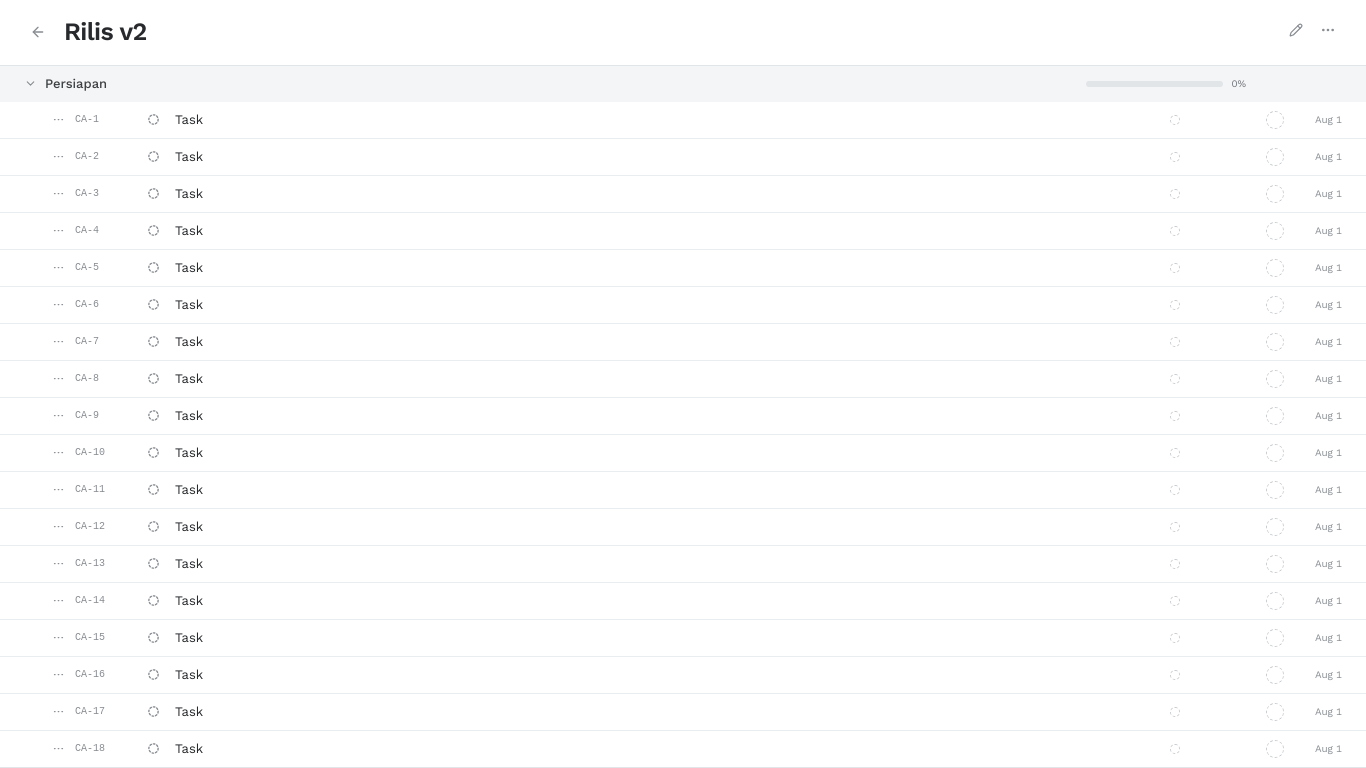
Test: TrackerProjectPage project and phase management › states the released task count in the delete confirmation
The image size is (1366, 768).
Check: the heading "Rilis v2" is shown, box [64,17,147,46]
Click the button named "project menu" at x=1328, y=30, box [1314,16,1342,44]
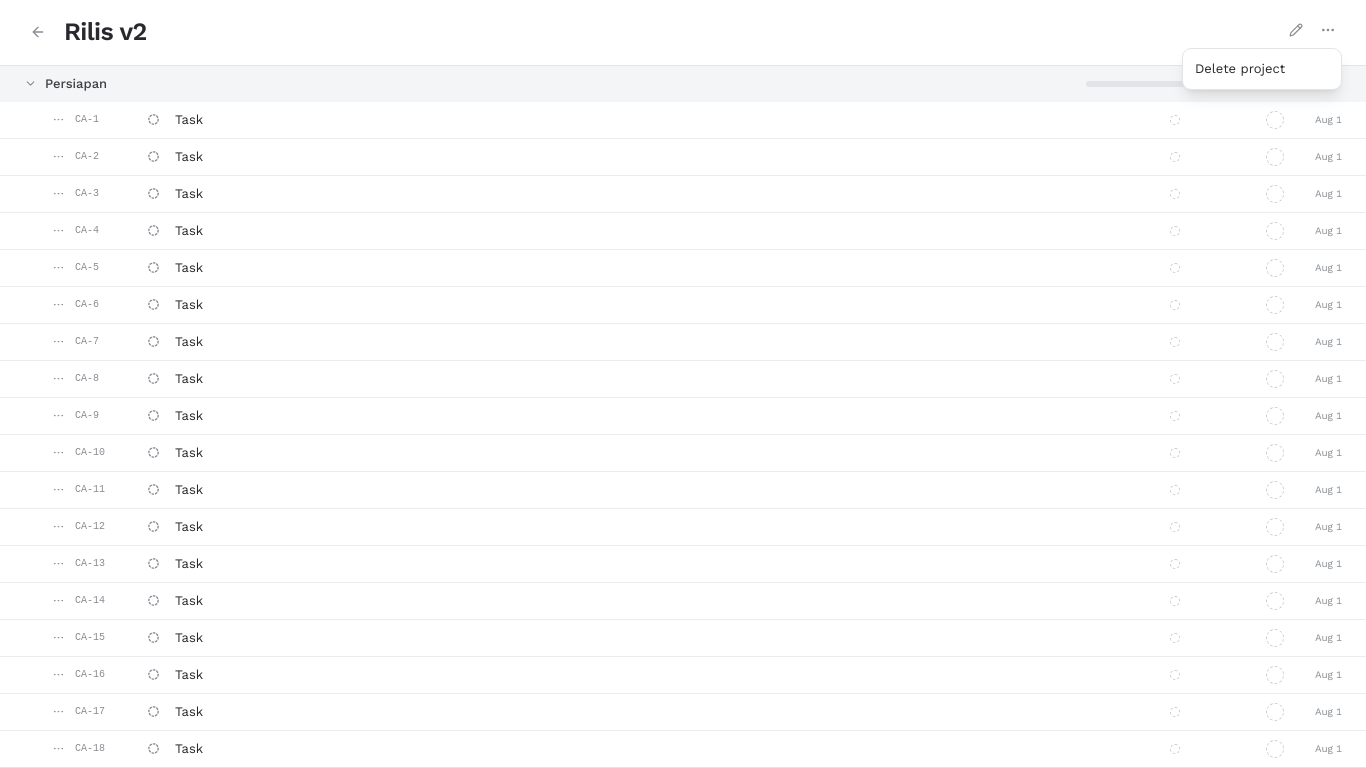
Click the menu item "Delete project" at x=1262, y=69, box [1183,53,1341,84]
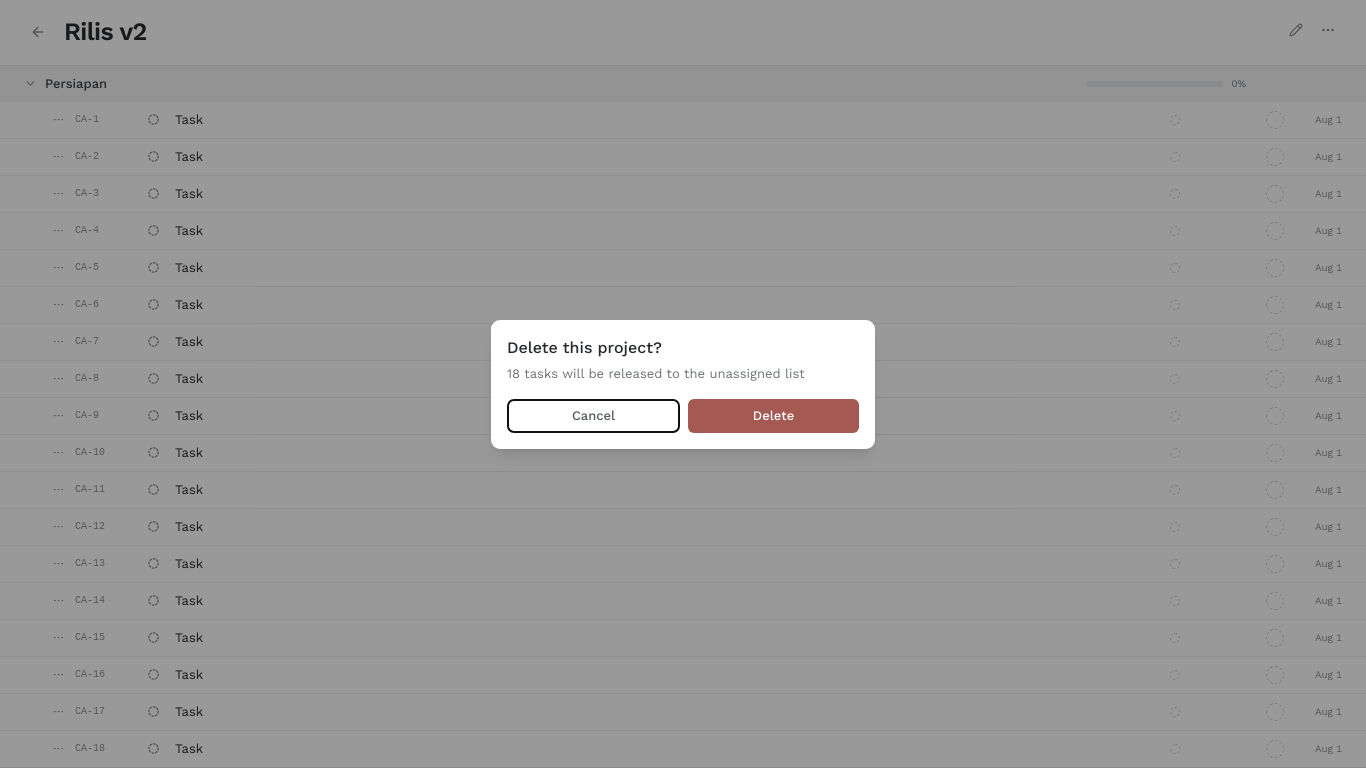
Check: the text "18 tasks will be released to the unassigned list" is shown, box [507,366,805,380]
